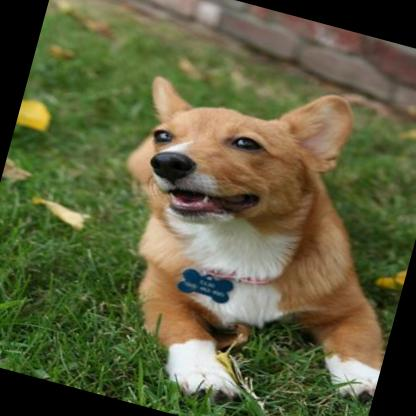Pembroke: (64, 42, 416, 416)
